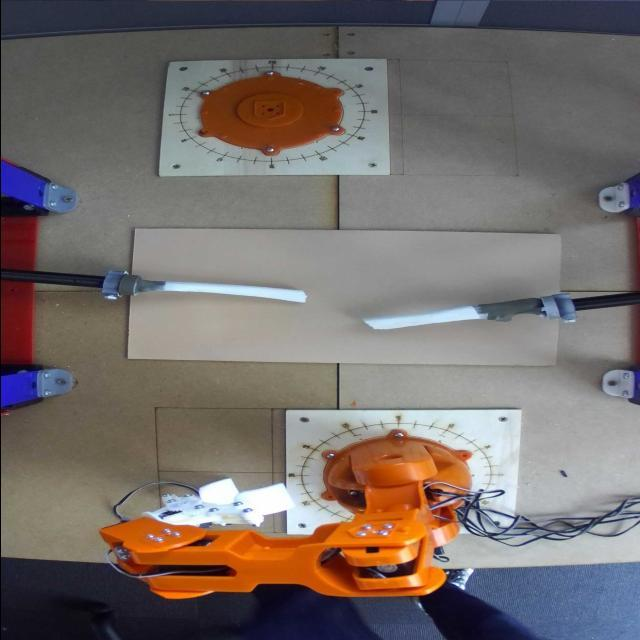bone: (362, 303, 524, 335), (160, 280, 302, 312)
